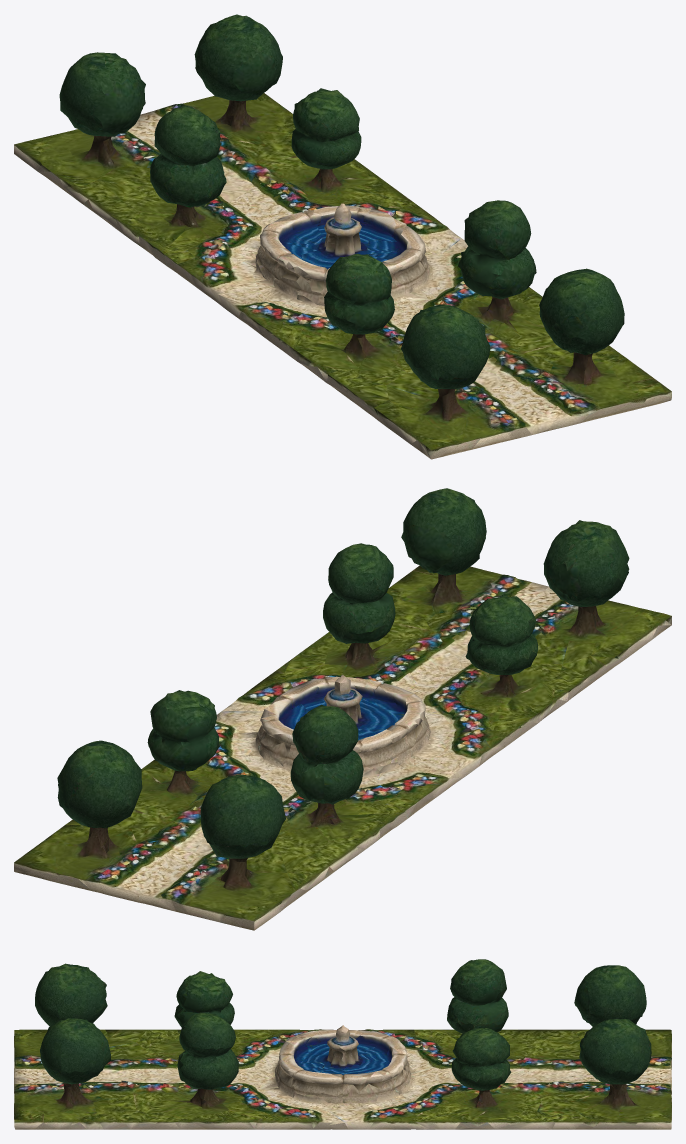
File: parco.glb
The picture shows the model from 3 angles, top to bottom: view 1: azimuth 30°, elevation 25°; view 2: azimuth 150°, elevation 25°; view 3: azimuth 270°, elevation 25°; orthographic projection. The views are drawn at different scales.
Size of the model in its own units: 1 by 0.4748 by 3.
1 material, 1 textured.
